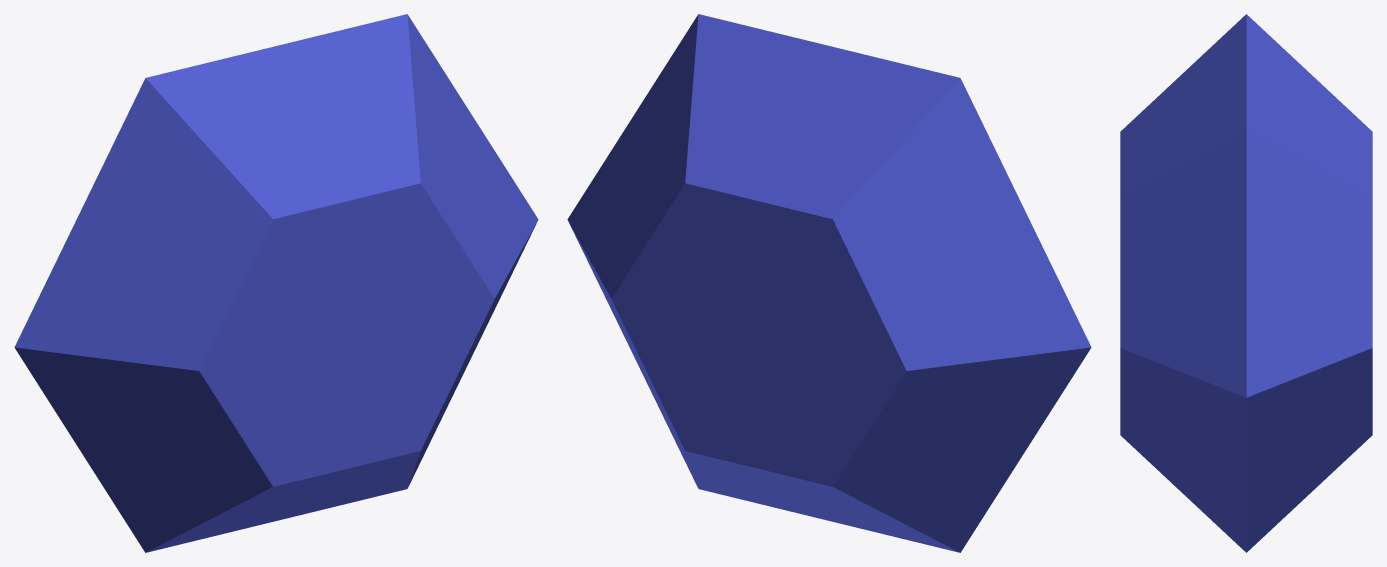
The model's file is Gem_03.fbx.
3 renders of one model, left to right at view 1: azimuth 30°, elevation 25°; view 2: azimuth 150°, elevation 25°; view 3: azimuth 270°, elevation 25°, orthographic. The views are drawn at different scales.
Visible parts, largest first — view 1: Gem_03; view 2: Gem_03; view 3: Gem_03.
Part boxes in pixels (bbox=[...]): Gem_03: bbox=[14, 14, 538, 552]; Gem_03: bbox=[567, 14, 1091, 552]; Gem_03: bbox=[1120, 14, 1372, 552].
Size of the model in its own units: 0.0747 by 0.0647 by 0.0348.
